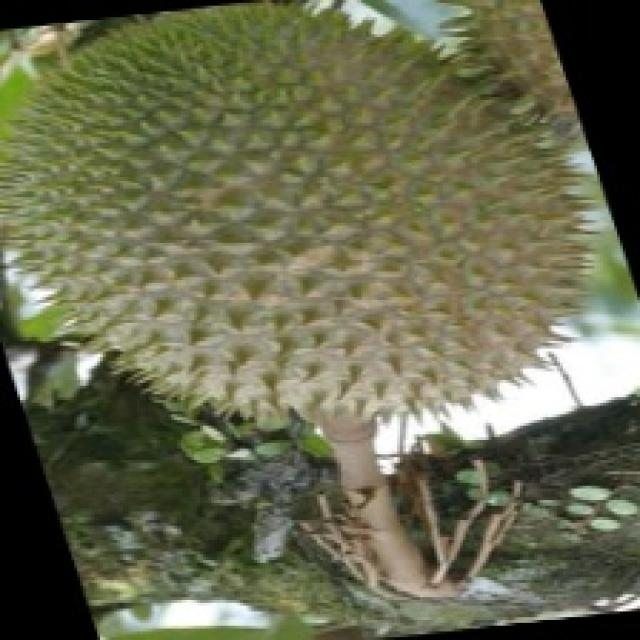d175: (13, 4, 610, 494)
